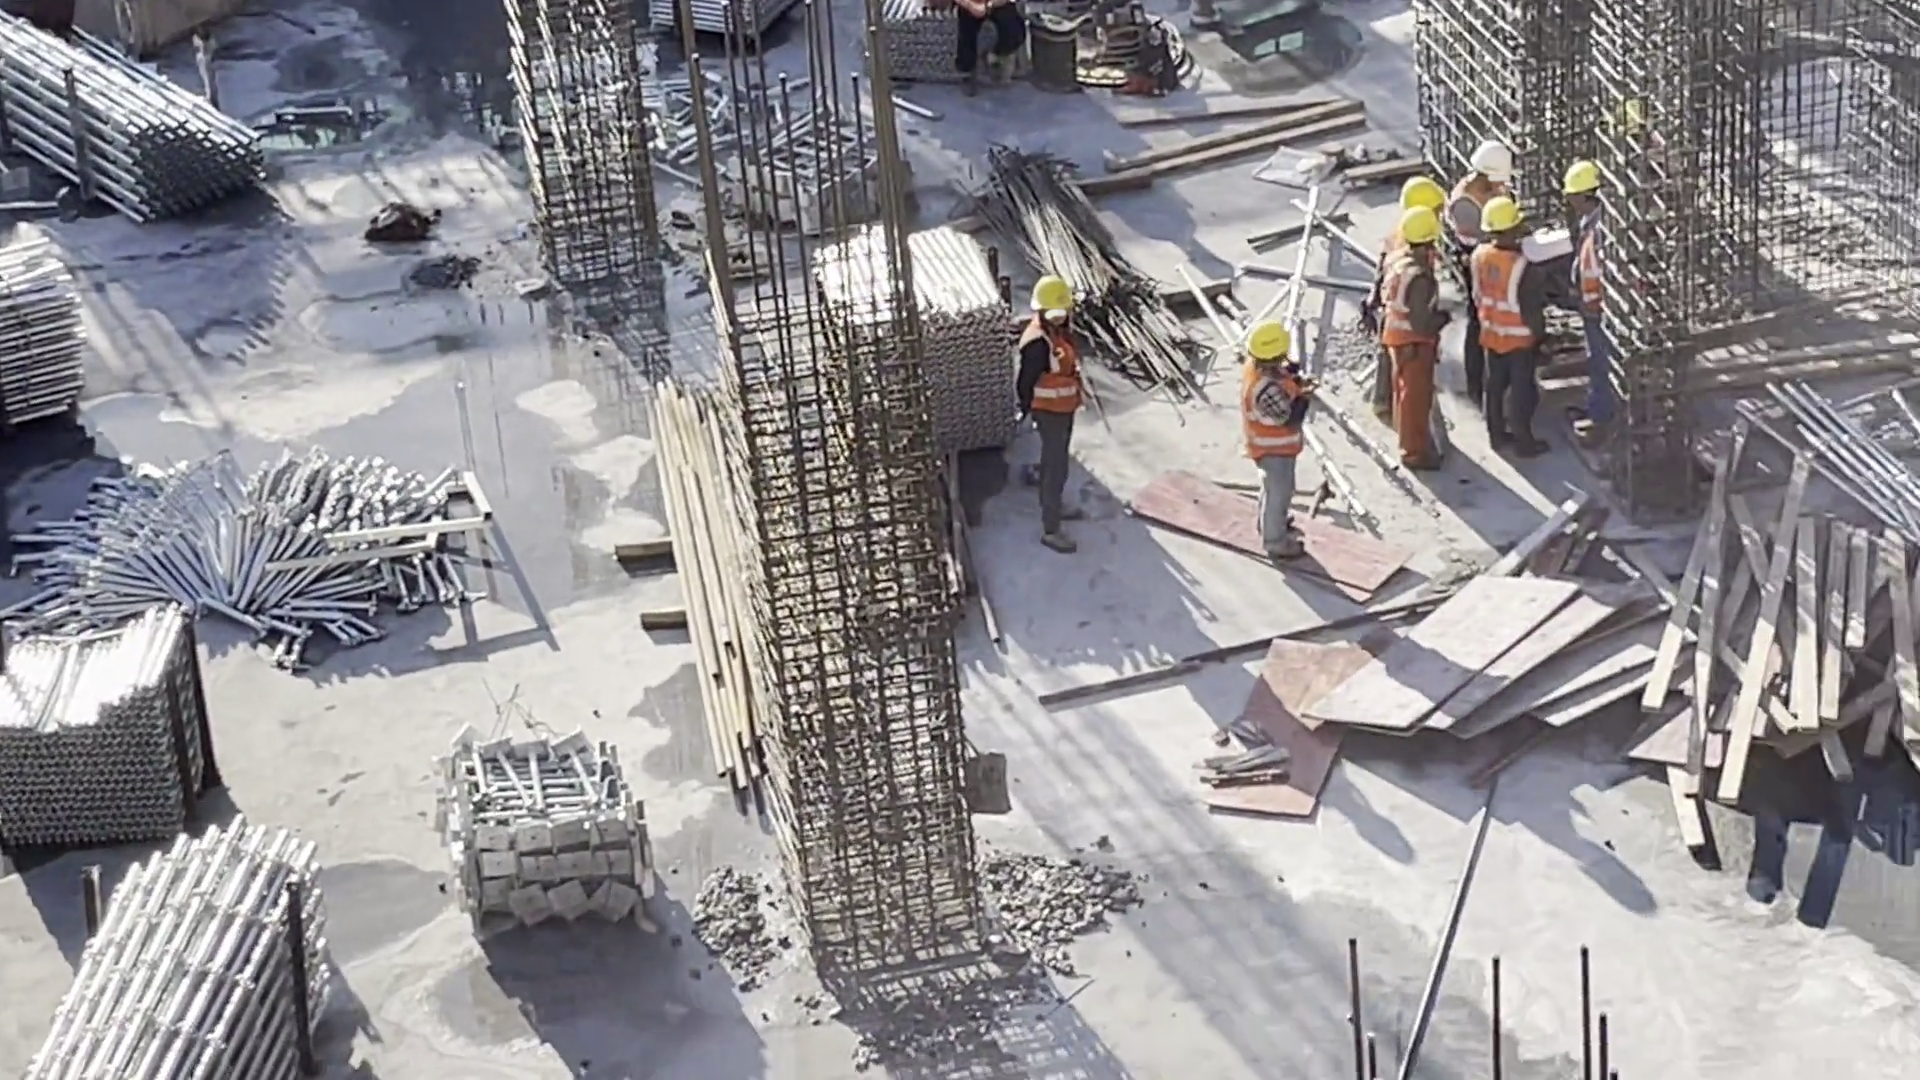board: (1354, 572, 1645, 761)
helmet: (1471, 144, 1517, 192), (1027, 283, 1080, 311), (1561, 172, 1603, 203), (1253, 330, 1292, 363), (1401, 210, 1436, 244), (1484, 207, 1521, 240), (1409, 183, 1439, 204)
hopper: (88, 1, 260, 50)
person: (1001, 269, 1100, 557), (1474, 198, 1554, 461), (1233, 319, 1315, 572), (1555, 162, 1625, 455), (1370, 169, 1449, 421), (1381, 206, 1448, 474), (1448, 138, 1513, 413), (943, 1, 1038, 101)
rebar: (999, 165, 1186, 373)
scaffold: (86, 473, 468, 646), (1, 28, 285, 236), (63, 833, 291, 1080), (819, 205, 1012, 459), (1, 612, 231, 808), (1, 262, 108, 440), (656, 1, 792, 67), (880, 12, 947, 71)
vest: (1023, 333, 1089, 411), (1471, 260, 1525, 356), (1247, 369, 1300, 457), (1382, 267, 1428, 348), (1571, 241, 1613, 311)
wood: (1665, 538, 1901, 836)
